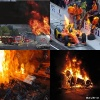fire: (61, 51, 93, 88), (0, 50, 25, 82), (64, 13, 91, 35), (28, 12, 50, 36)
